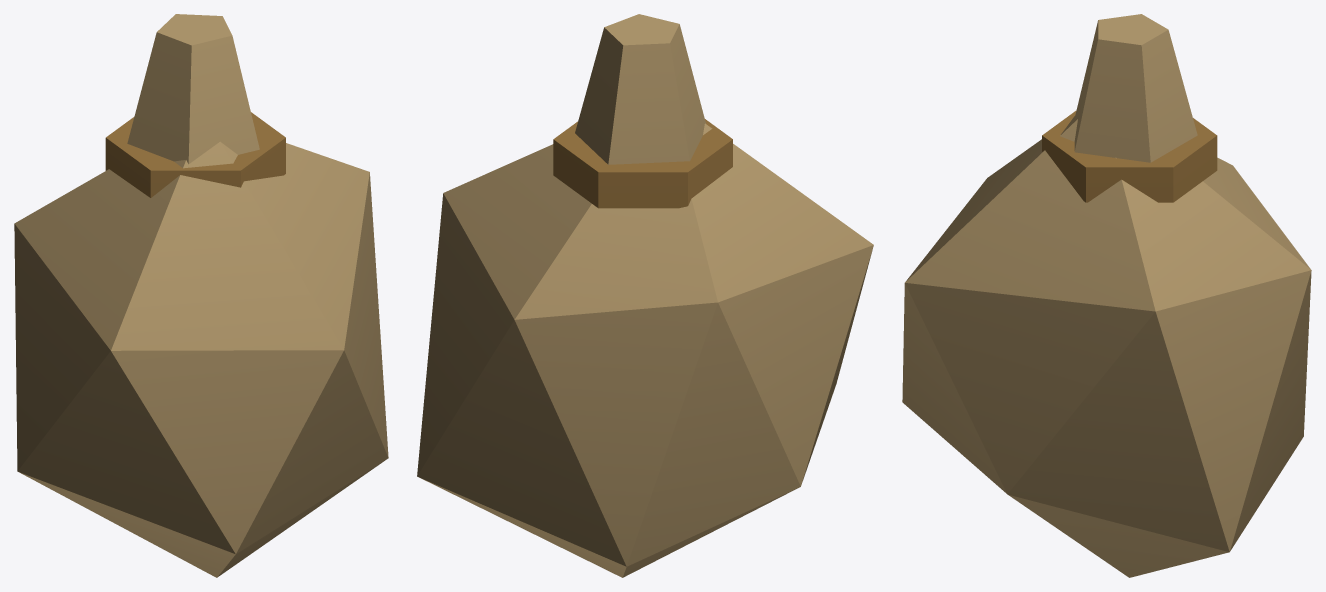
File: sack.glb
3 renders of one model, left to right at view 1: azimuth 30°, elevation 25°; view 2: azimuth 150°, elevation 25°; view 3: azimuth 270°, elevation 25°, orthographic. The views are drawn at different scales.
Visible parts, largest first — view 1: sack; view 2: sack; view 3: sack.
Part boxes in pixels (left/top/right/bottom): sack: left=14, top=14, right=388, bottom=577; sack: left=417, top=14, right=873, bottom=577; sack: left=902, top=14, right=1311, bottom=577.
Bounding box in the file's own units: 0.2051 × 0.3054 × 0.2103.
